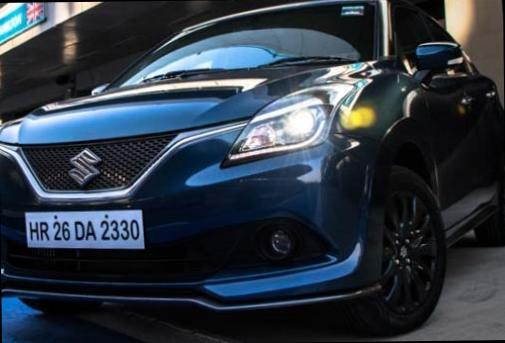plate: (24, 208, 148, 255)
